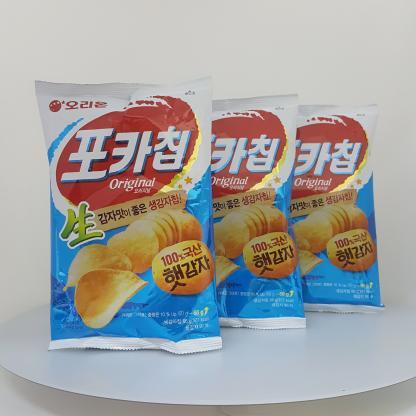Plastic Packaging: (27, 75, 217, 355), (212, 90, 296, 332), (303, 96, 379, 310)
